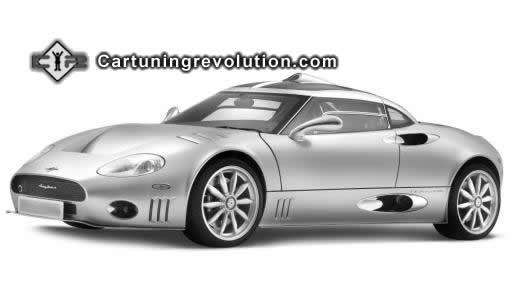car: (7, 70, 507, 251)
